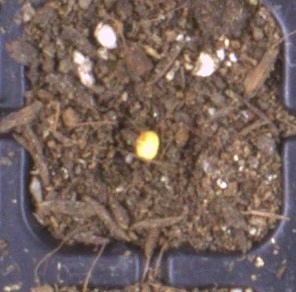chilli seed: (134, 129, 160, 162)
